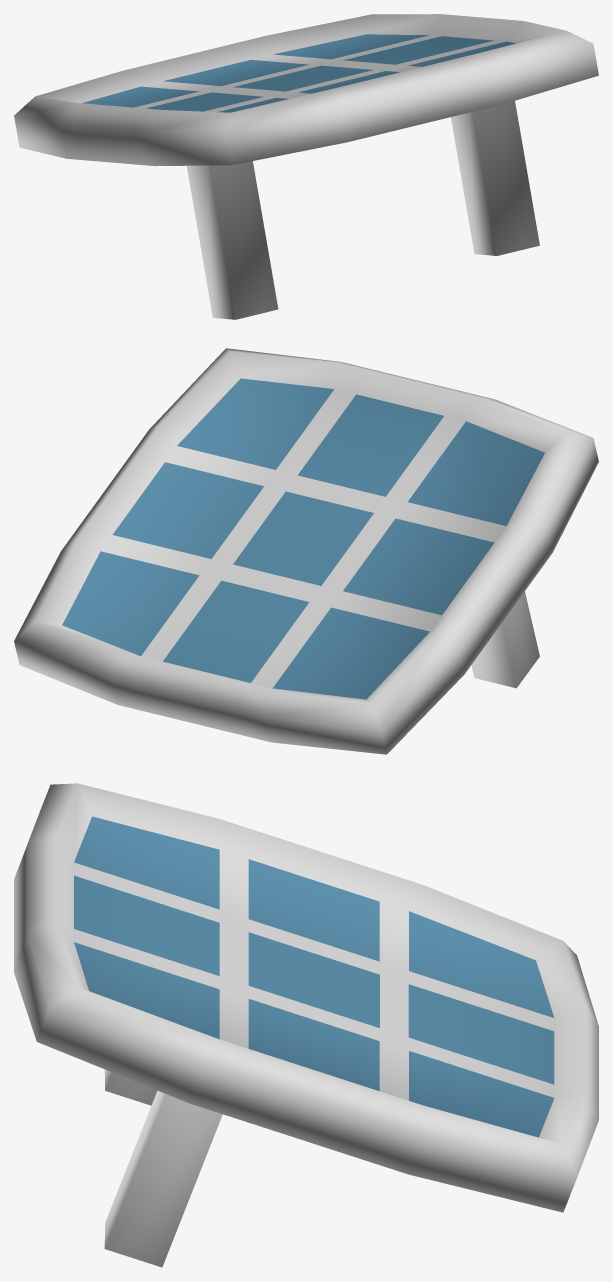
File: Solar Panel.fbx
3 renders of one model, top to bottom at view 1: azimuth 30°, elevation 25°; view 2: azimuth 150°, elevation 25°; view 3: azimuth 270°, elevation 25°, orthographic. The views are drawn at different scales.
Parts seen in each view (by area): view 1: Solar; view 2: Solar; view 3: Solar.
Part boxes in pixels (x1,y1,x2,y2): Solar: (14, 14, 598, 319); Solar: (14, 348, 598, 754); Solar: (14, 783, 598, 1267).
Bounding box in the file's own units: 31.49 × 18.21 × 32.31.
